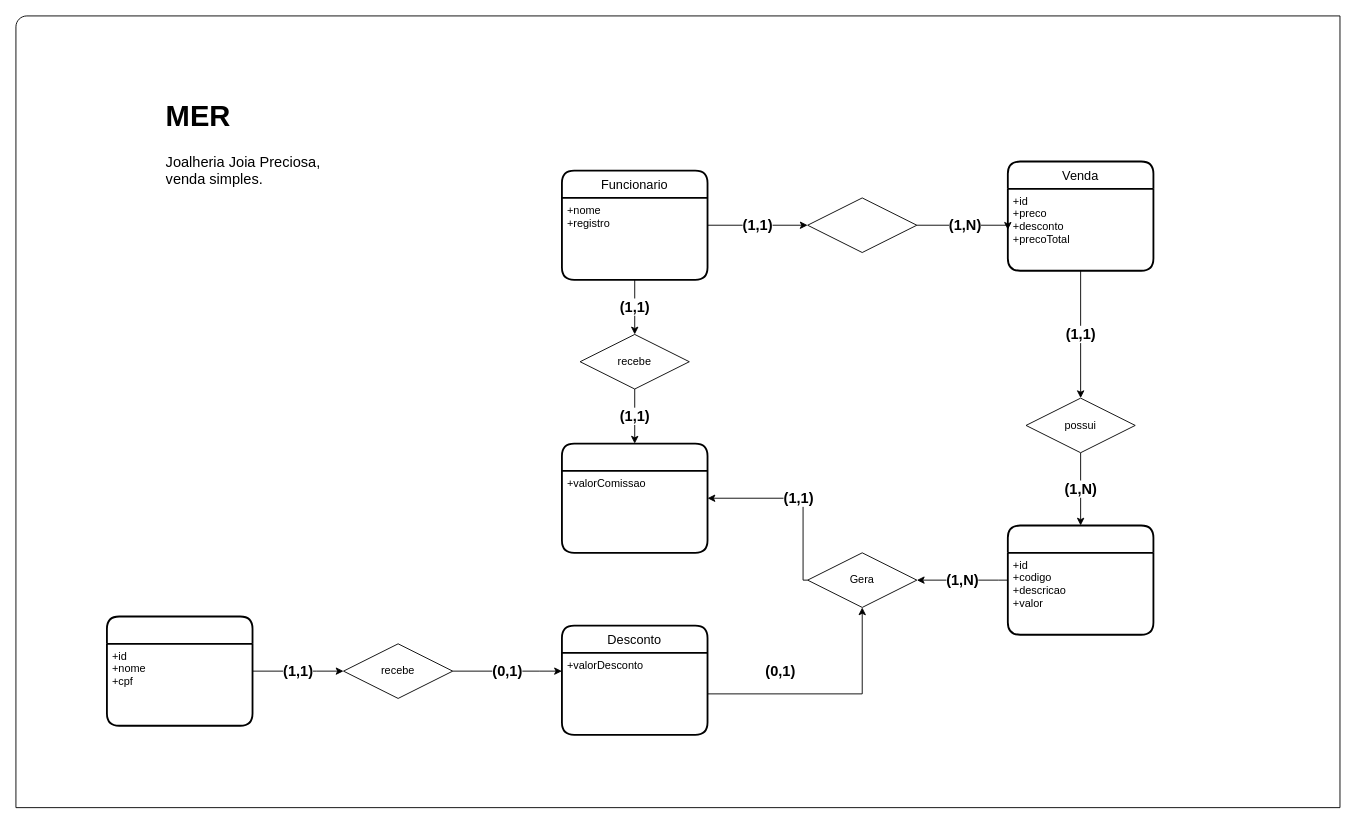
This 1356x824 diagram has some shape labels left out. Here are the shapes that lost their labels. From the top down, the box of each, then its label:
(807, 197, 917, 253): realiza
(561, 442, 708, 553): Comissão
(1006, 524, 1154, 635): Produtos_Vendidos
(106, 615, 253, 726): Cliente
